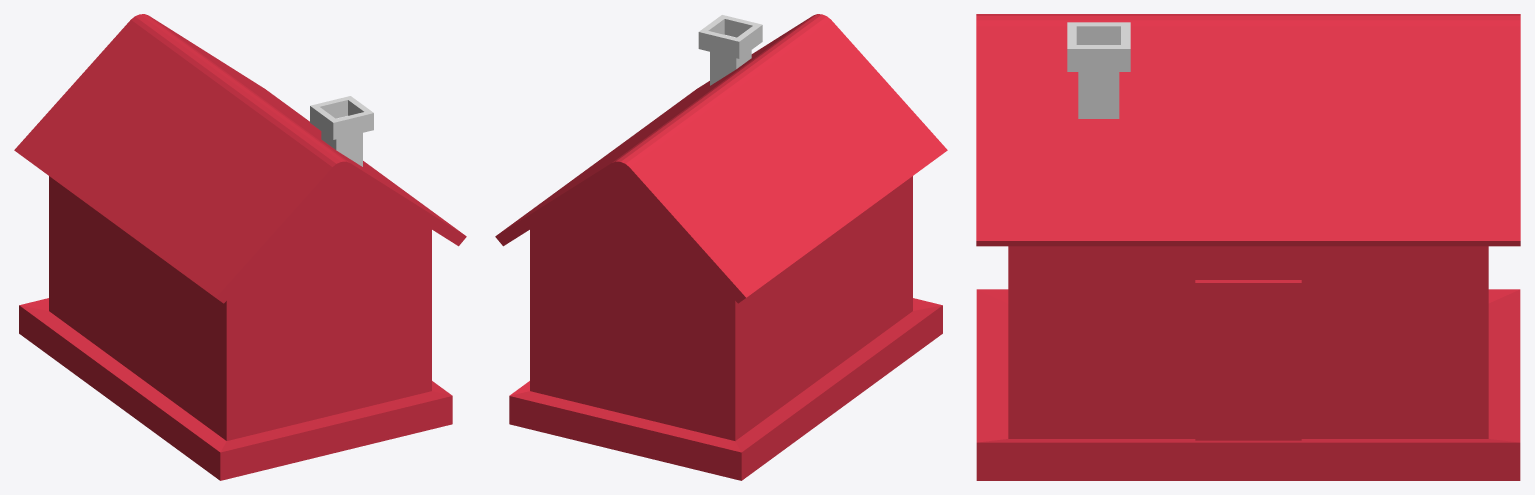
File: Haus.glb
3 renders of one model, left to right at view 1: azimuth 30°, elevation 25°; view 2: azimuth 150°, elevation 25°; view 3: azimuth 270°, elevation 25°, orthographic. The views are drawn at different scales.
Visible parts, largest first — view 1: Cube, Dach, Schornstein; view 2: Cube, Dach, Schornstein; view 3: Dach, Cube, Tür, Schornstein.
Boxes of the visible parts, x1,y1,x2,y2 form: Cube: (19, 172, 452, 480); Dach: (14, 14, 466, 303); Schornstein: (310, 96, 373, 166); Cube: (509, 172, 942, 480); Dach: (495, 14, 947, 303); Schornstein: (698, 15, 762, 85); Dach: (976, 14, 1520, 246); Cube: (976, 246, 1520, 480); Tür: (1195, 280, 1301, 440); Schornstein: (1067, 22, 1130, 118).
Size of the model in its own units: 4.9 by 5.55 by 6.81.
